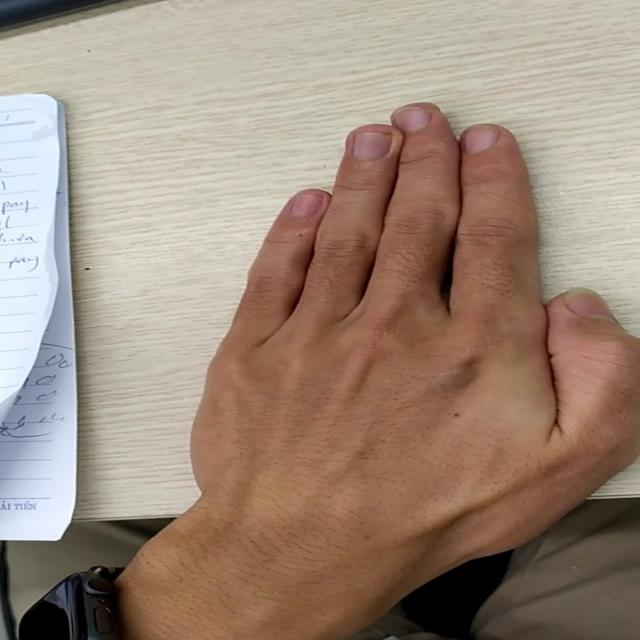hand: (218, 103, 640, 572)
